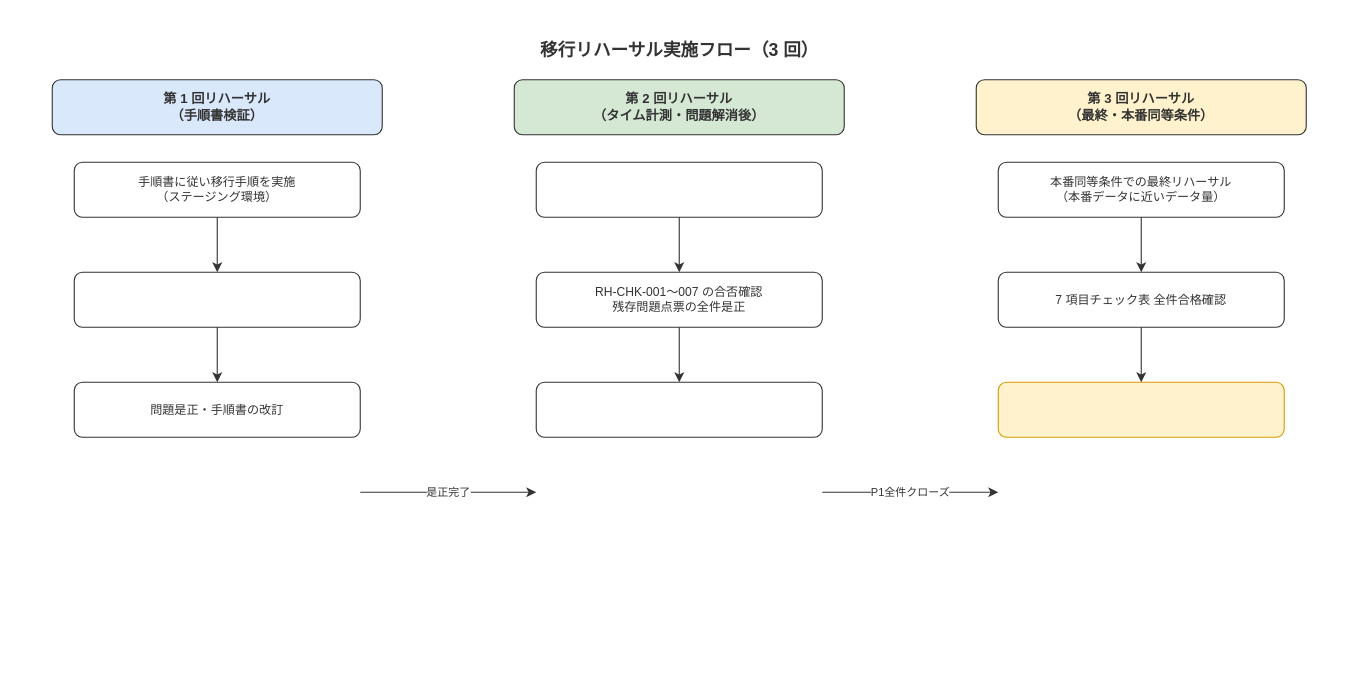
Image size: 1357x697. Some labels were removed from this diagram. The shapes that lost their labels are listed below. From the top down, each one's centre as x and y in pixels, then its label:
At (x=678, y=189): "改訂後の手順書で再実施 所要時間を計測する".
At (x=216, y=299): "問題点票の作成 （RH-ISSUE-NNN 形式）".
At (x=678, y=409): "P1 問題のクローズ確認 （全件クローズが第 3 回の前提）".
At (x=1140, y=409): "quality_admin によるリハーサル完了宣言 （書面署名 / CO-PRE-004 充足）".
